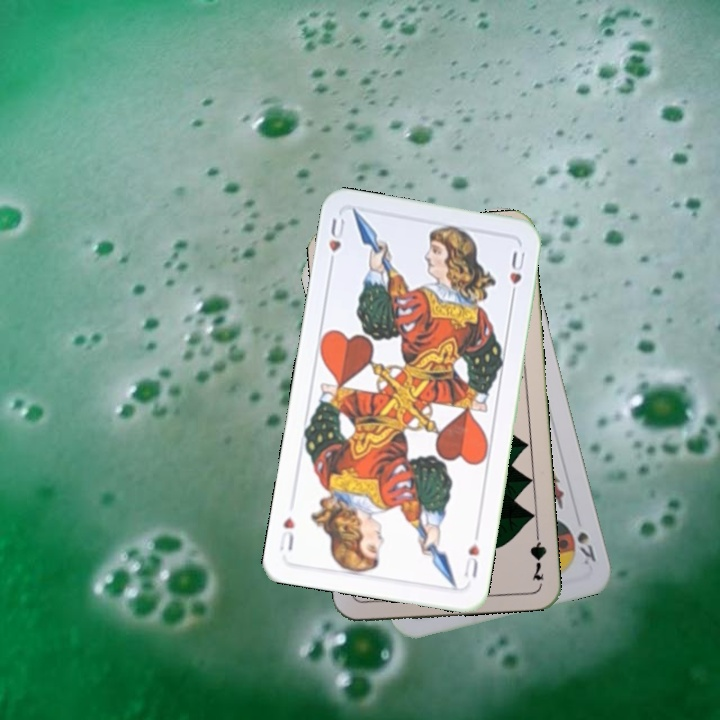G7: (526, 524, 549, 583)
HU: (324, 213, 348, 271), (460, 540, 482, 581)
SK: (573, 527, 599, 568)
